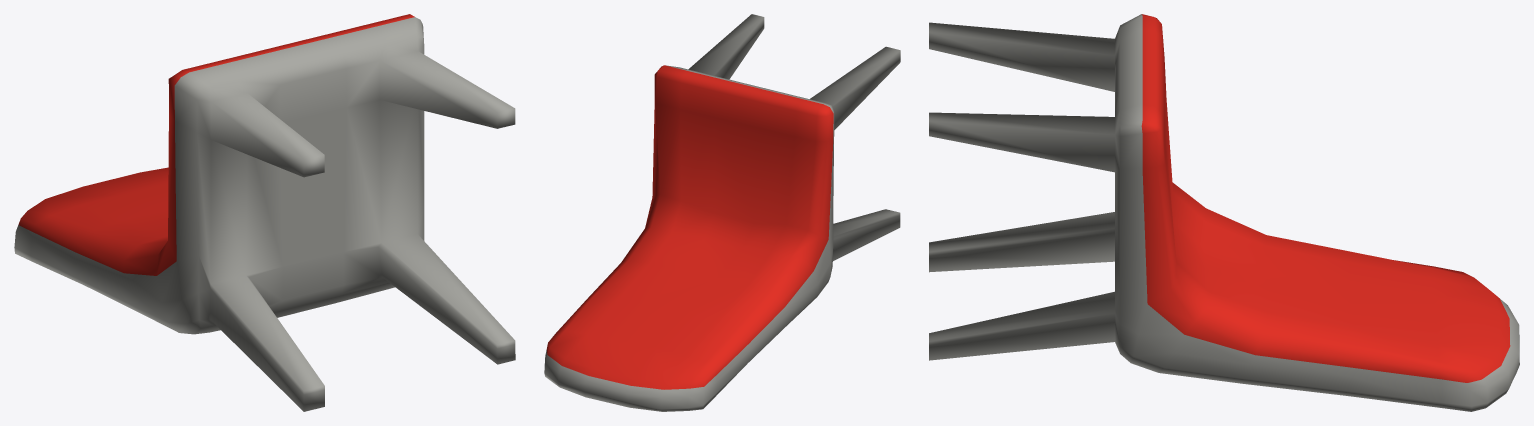
Rendered from Resturant_chair.fbx.
The picture shows the model from 3 angles, left to right: view 1: azimuth 30°, elevation 25°; view 2: azimuth 150°, elevation 25°; view 3: azimuth 270°, elevation 25°; orthographic projection. The views are drawn at different scales.
Parts seen in each view (by area): view 1: Circle.017; view 2: Circle.017; view 3: Circle.017.
Part boxes in pixels (left/top/right/bottom): Circle.017: left=14, top=14, right=515, bottom=411; Circle.017: left=544, top=14, right=900, bottom=411; Circle.017: left=929, top=14, right=1519, bottom=411.
Size of the model in its own units: 28.9 by 34.25 by 62.59.
